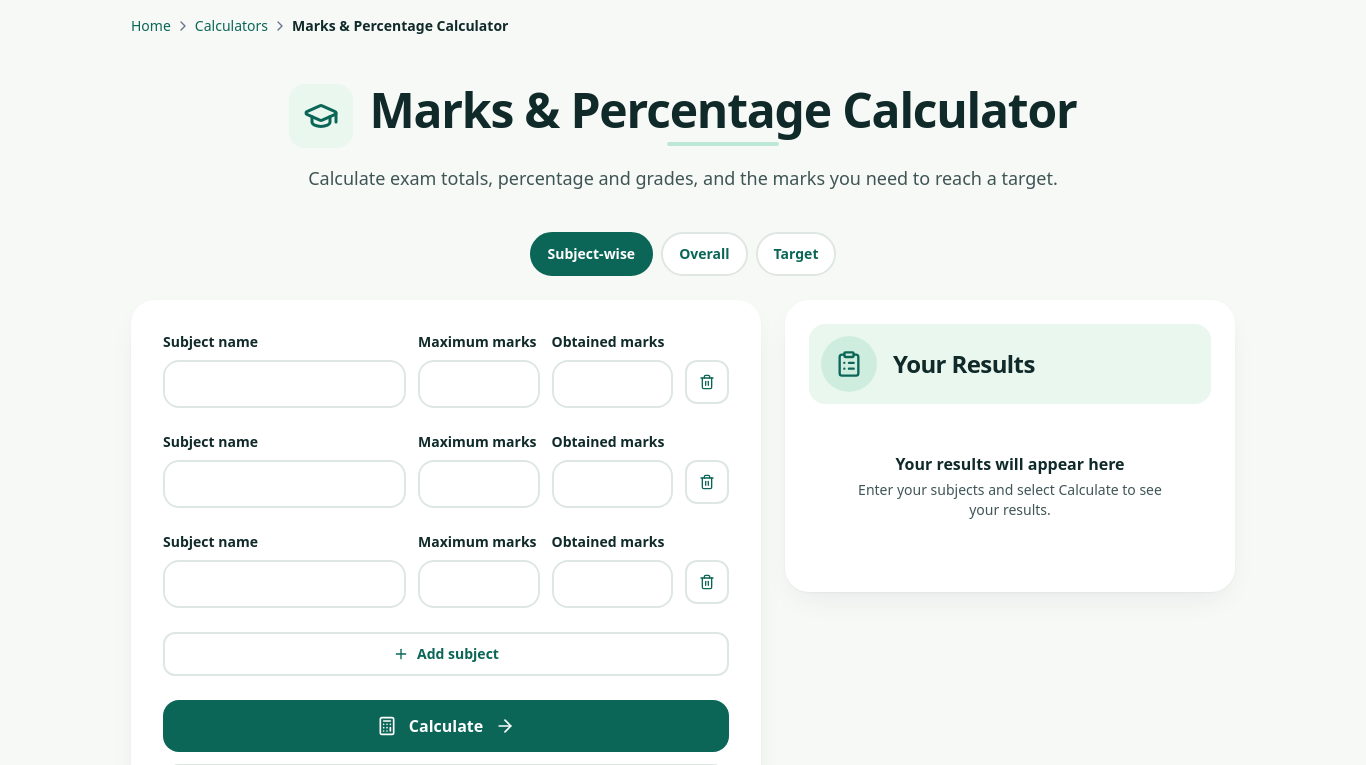
Test case: subject-wise mode › rejects invalid marks
Click the button named "Remove subject 3" at (707, 582), box x1=685 y1=560 x2=729 y2=604
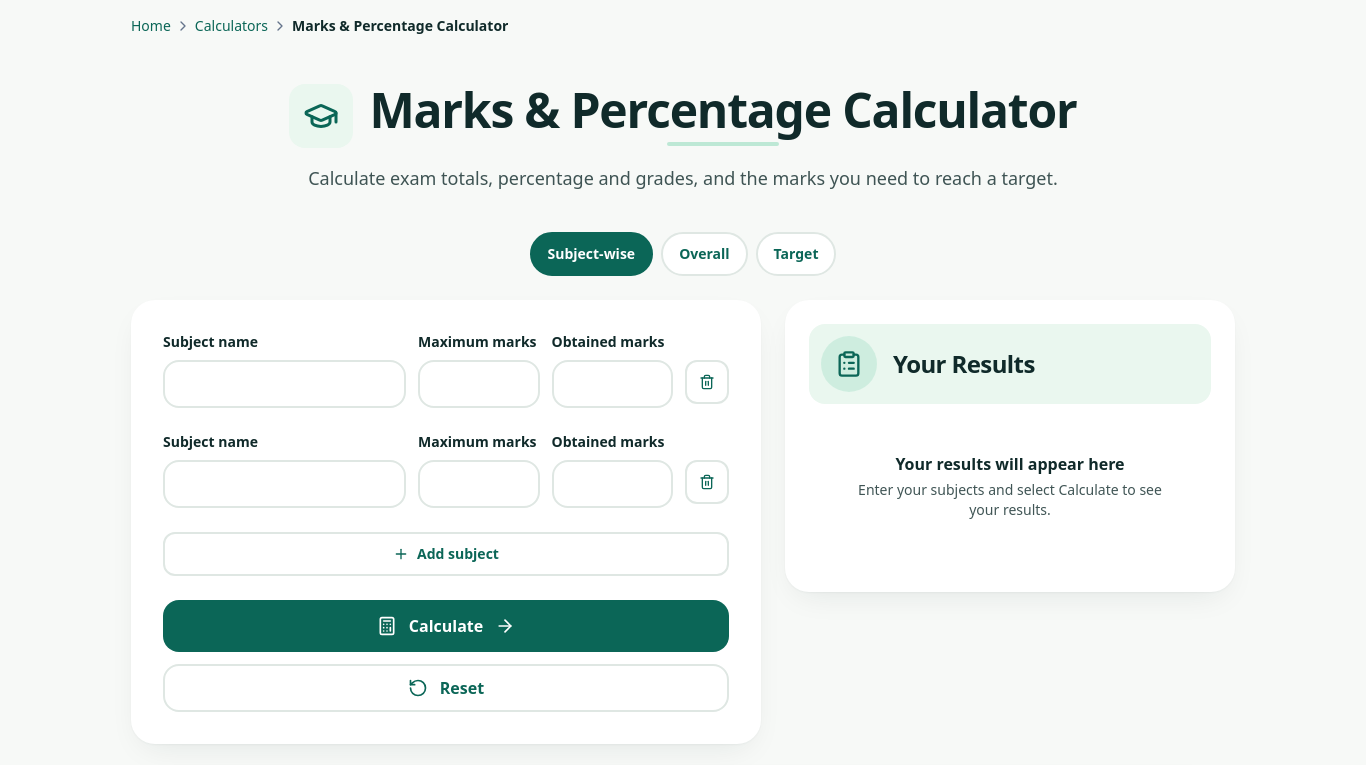
Click the button named "Remove subject 2" at (707, 482), box x1=685 y1=460 x2=729 y2=504
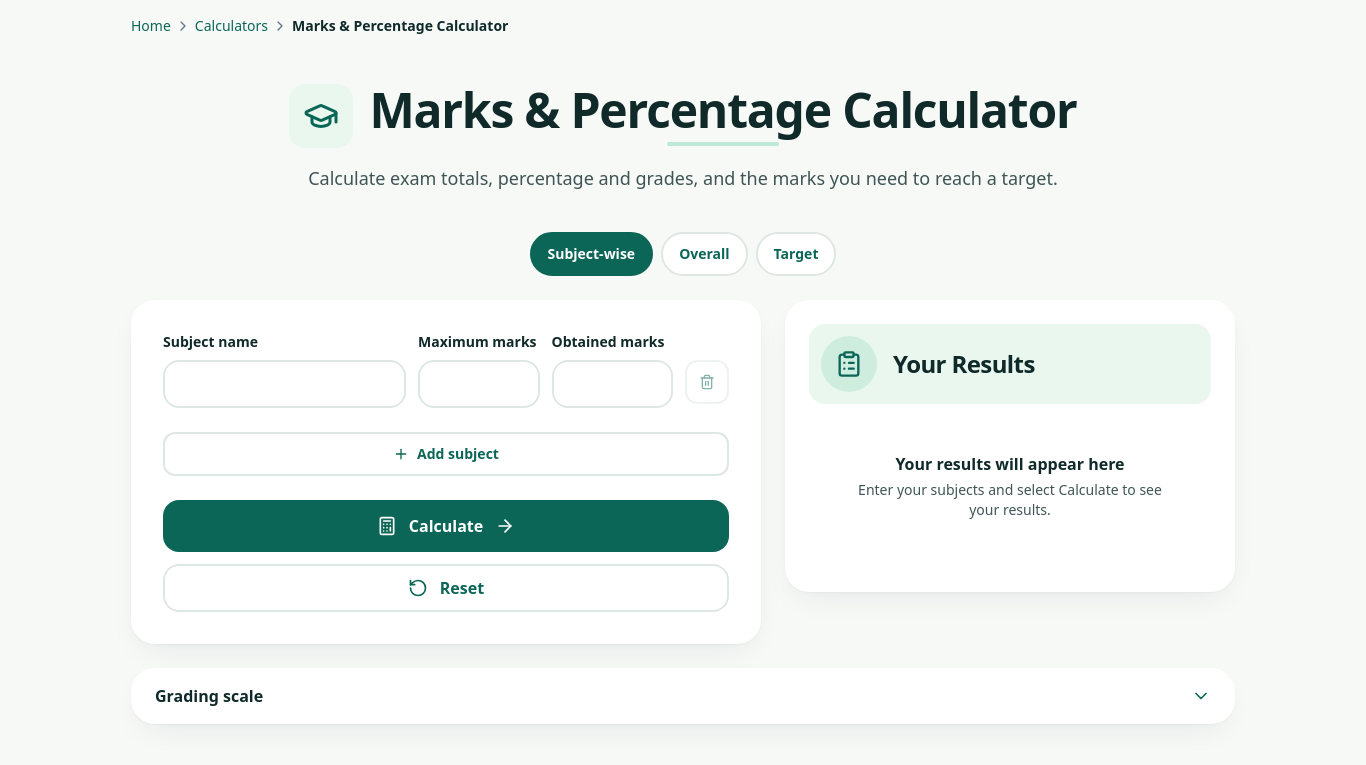
Type "Maths" into the field named "Subject 1 Subject name" at (284, 384), box x1=163 y1=360 x2=406 y2=408
Type "100" into the field named "Subject 1 Maximum marks" at (479, 384), box x1=418 y1=360 x2=540 y2=408
Type "101" into the field named "Subject 1 Obtained marks" at (612, 384), box x1=552 y1=360 x2=673 y2=408
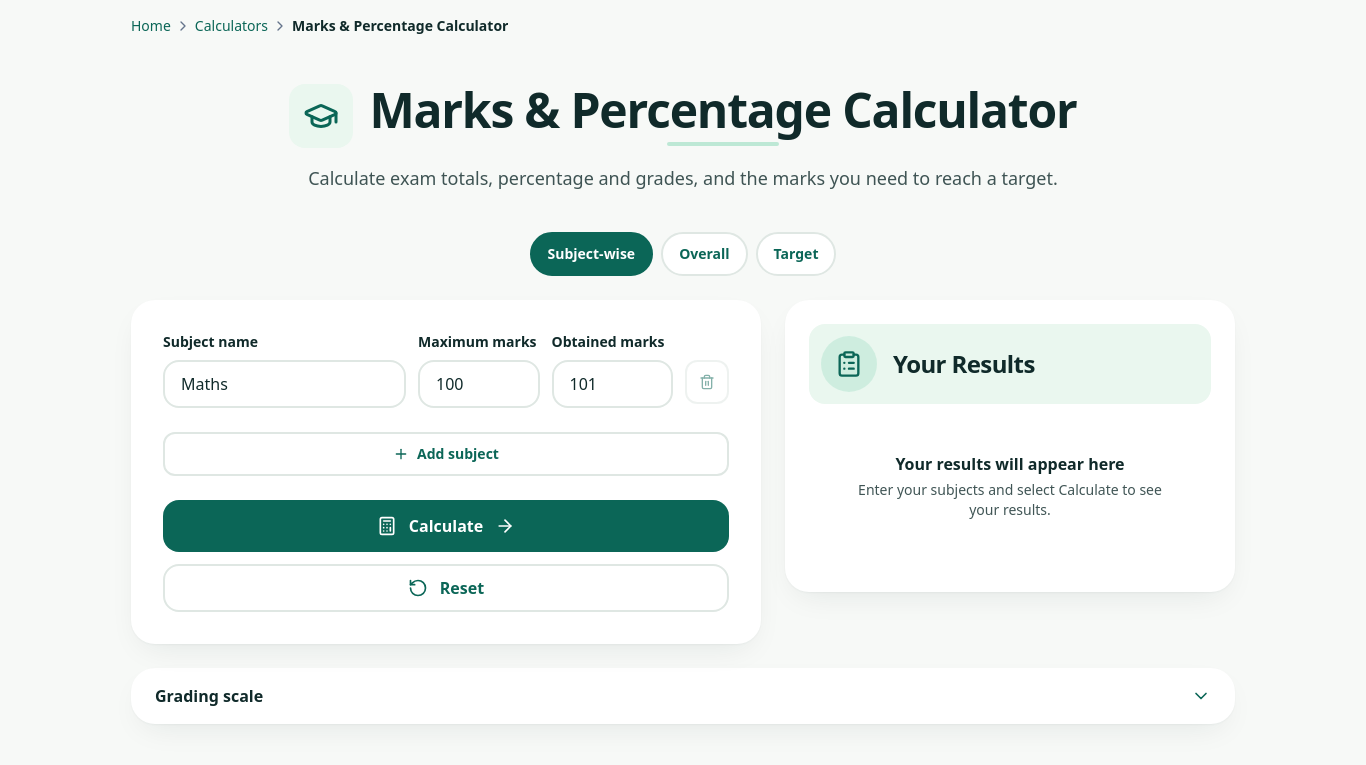
Click the button "Calculate" at (446, 526), box x1=163 y1=500 x2=729 y2=552
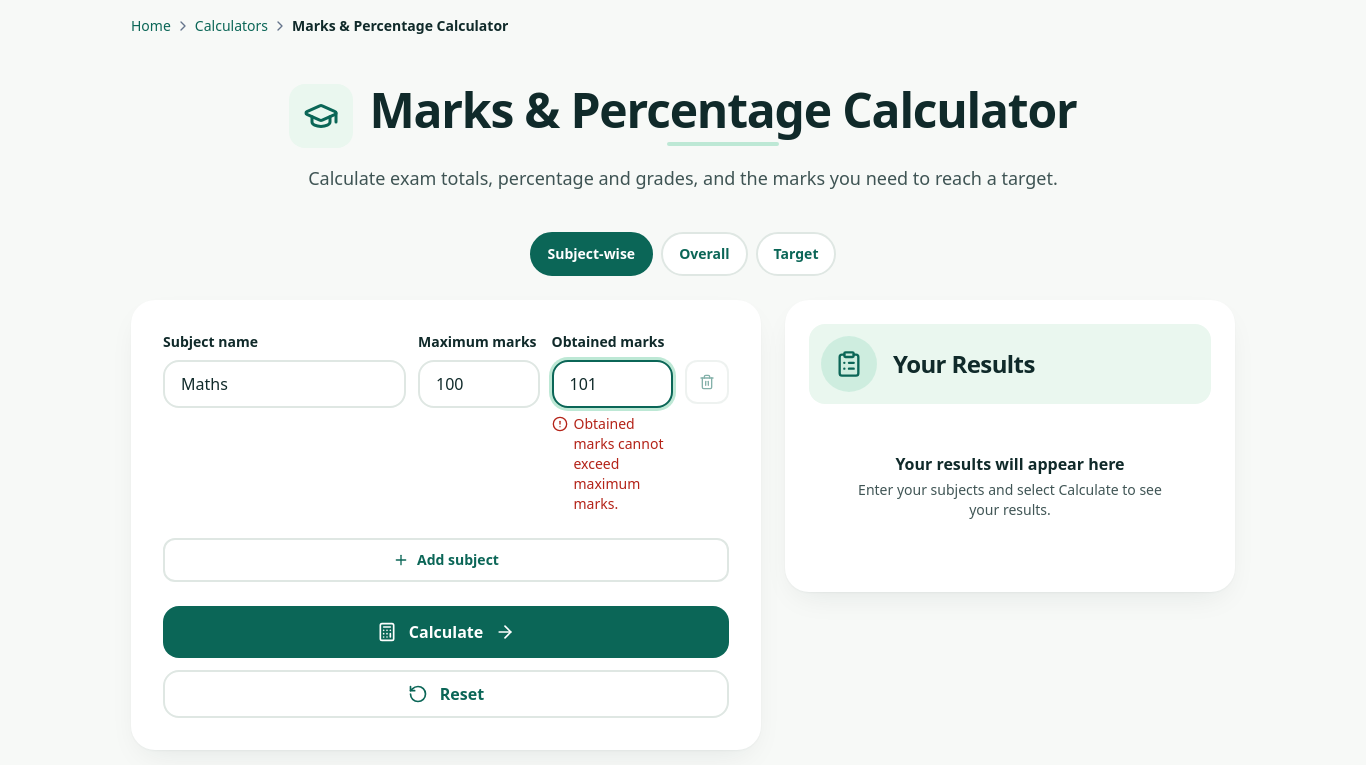
Check: the text "Obtained marks cannot exceed maximum marks." is shown, box x1=552 y1=414 x2=673 y2=514
Replace the text in the field named "Subject 1 Obtained marks" with "-1" at (612, 384), box x1=552 y1=360 x2=673 y2=408
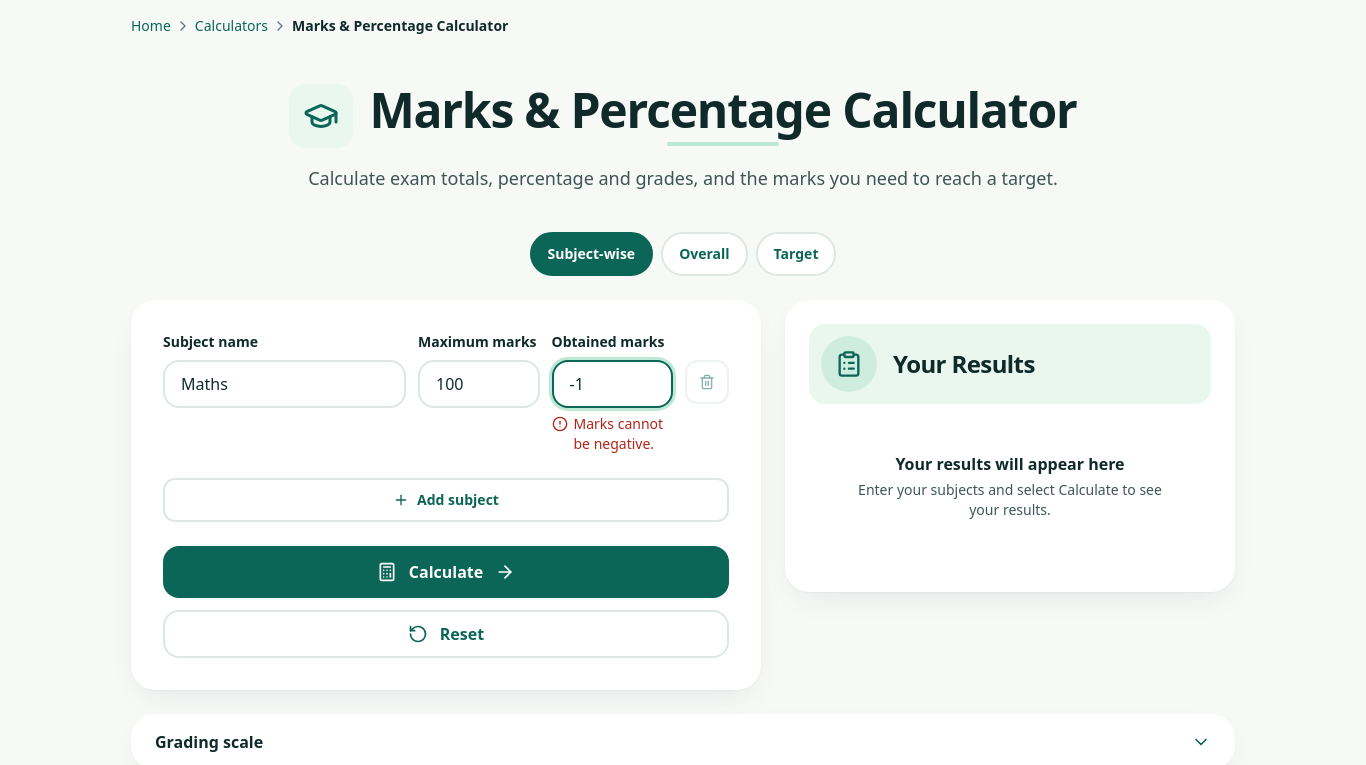
Check: the text "Marks cannot be negative." is shown, box x1=552 y1=414 x2=673 y2=454
Replace the text in the field named "Subject 1 Maximum marks" with "0" at (479, 384), box x1=418 y1=360 x2=540 y2=408
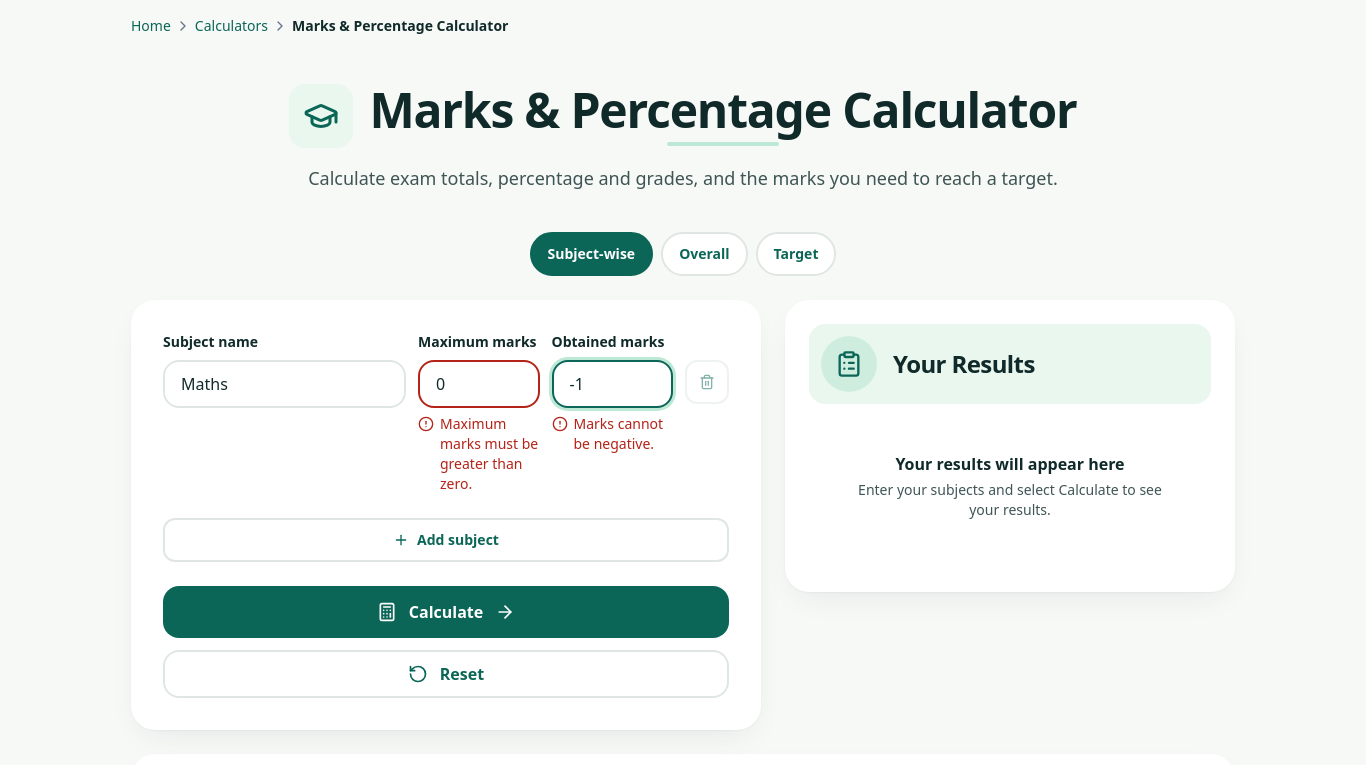
Check: the text "Maximum marks must be greater than zero." is shown, box x1=418 y1=414 x2=540 y2=494
